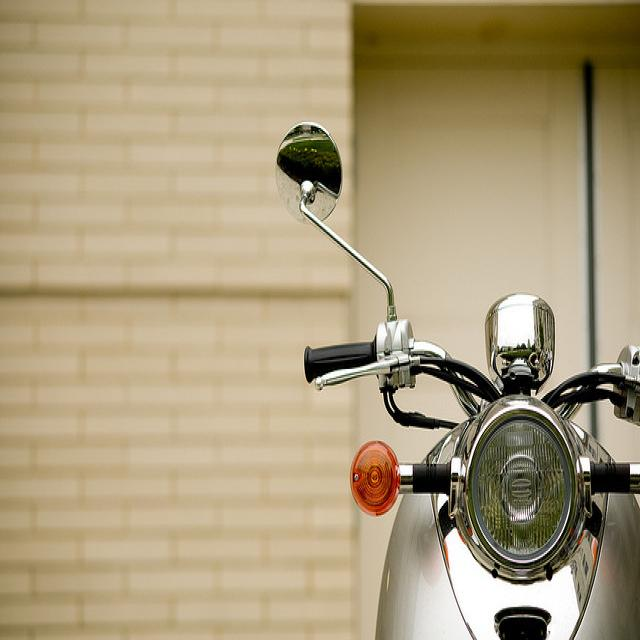motor: (274, 115, 640, 633)
